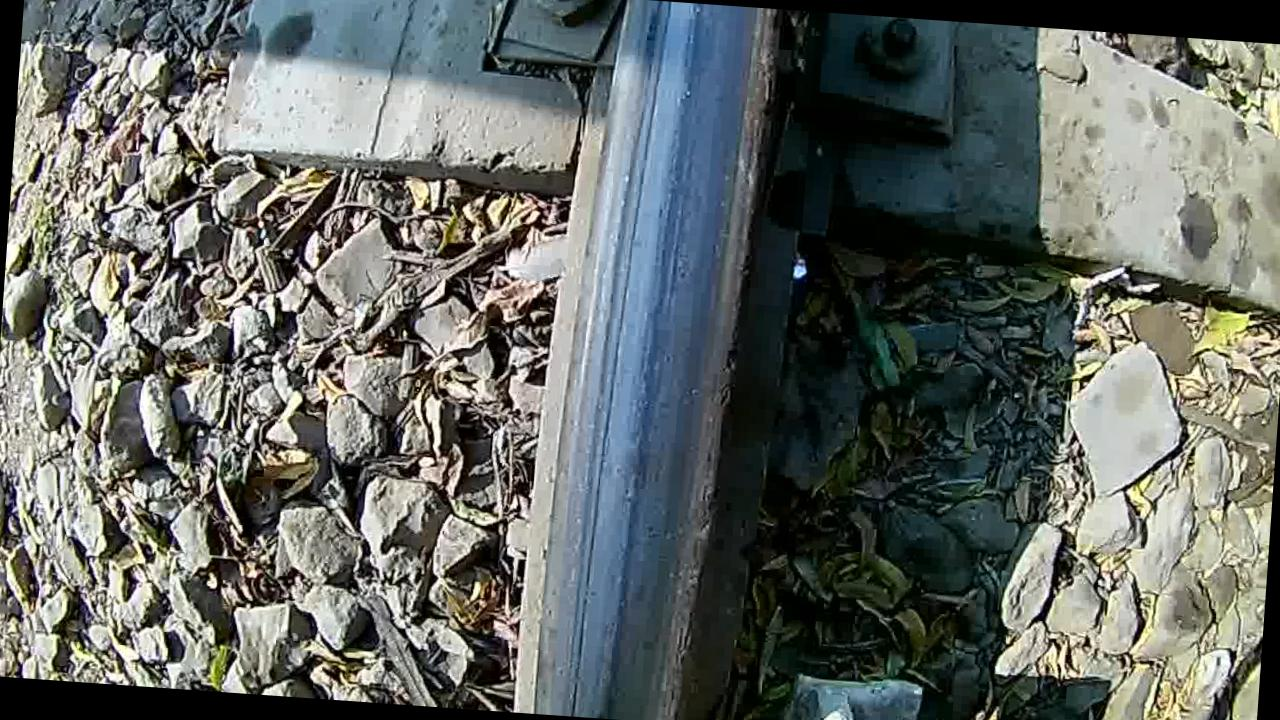clip_missing: (517, 0, 783, 720)
